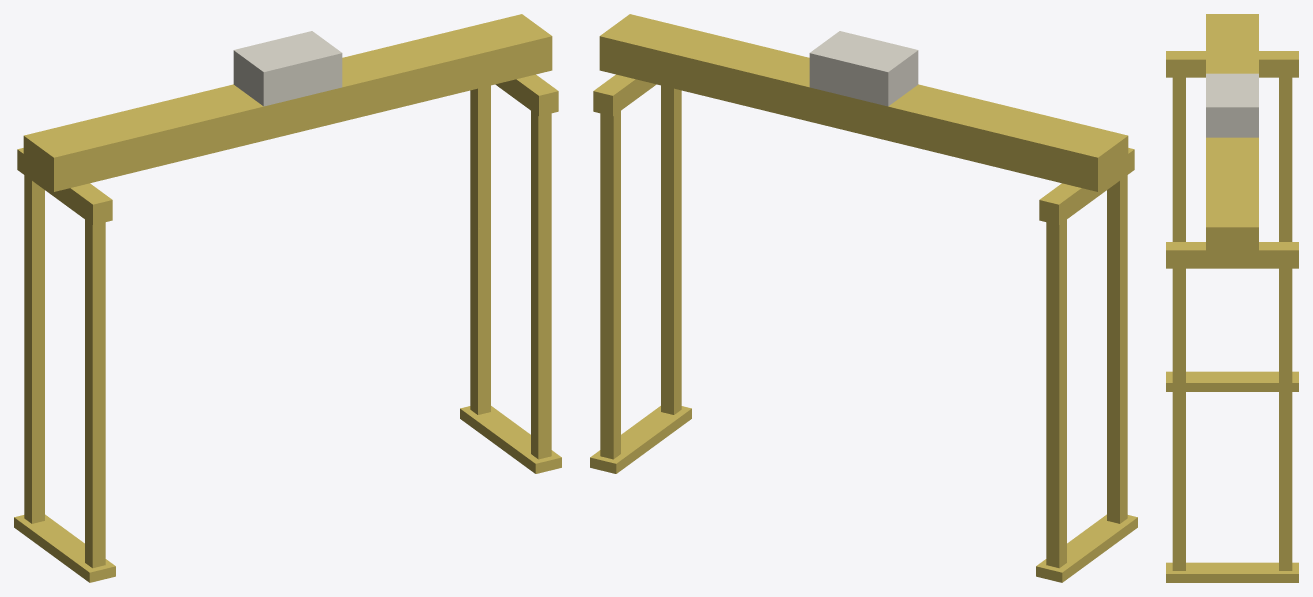
Rendered from goliath_crane.glb.
The picture shows the model from 3 angles, left to right: view 1: azimuth 30°, elevation 25°; view 2: azimuth 150°, elevation 25°; view 3: azimuth 270°, elevation 25°; orthographic projection. The views are drawn at different scales.
Parts seen in each view (by area): view 1: LOD0; view 2: LOD0; view 3: LOD0.
Boxes of the visible parts, x1,y1,x2,y2 form: LOD0: [14, 14, 561, 582]; LOD0: [590, 14, 1137, 582]; LOD0: [1166, 14, 1298, 582].
Size of what is drawn, in the model's own units: 76 by 65 by 20.
